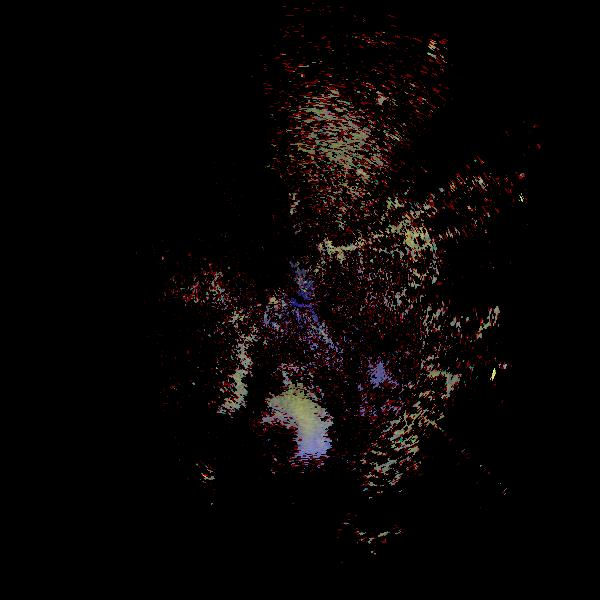roost: (242, 390, 329, 477)
